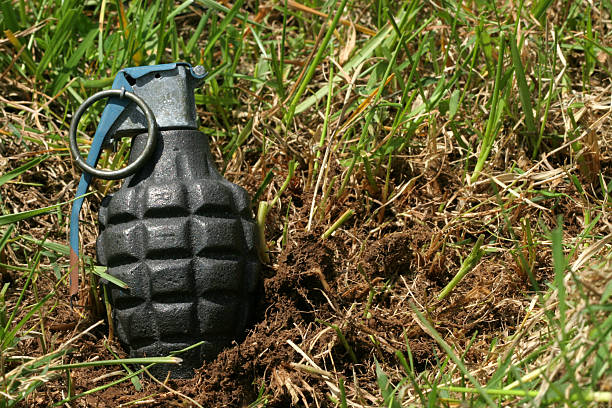e1: (57, 62, 271, 371)
